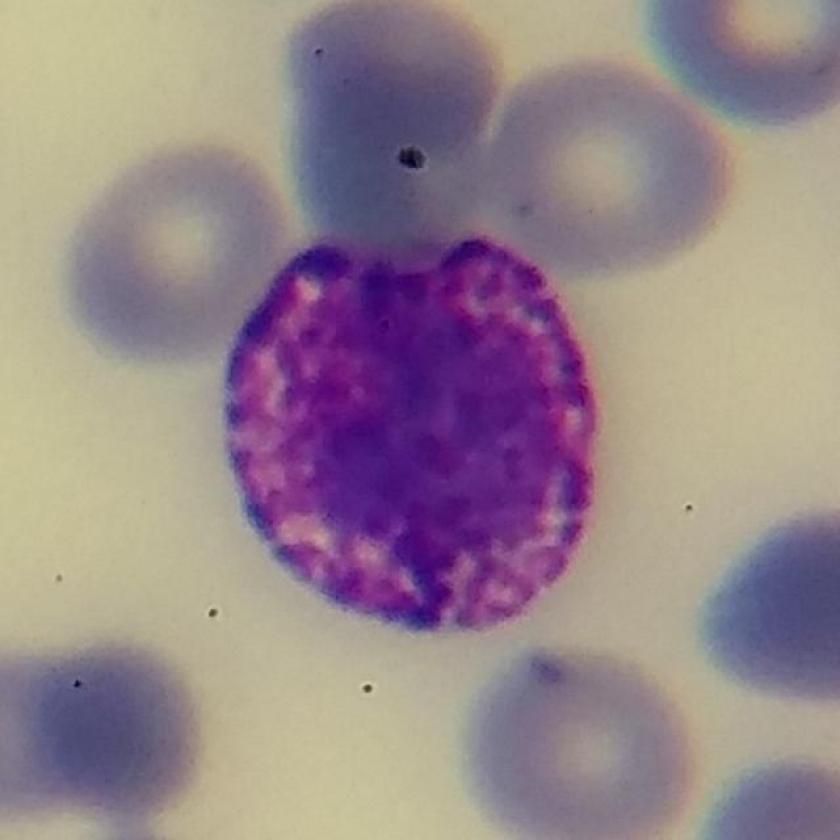basophil: (218, 235, 604, 635)
